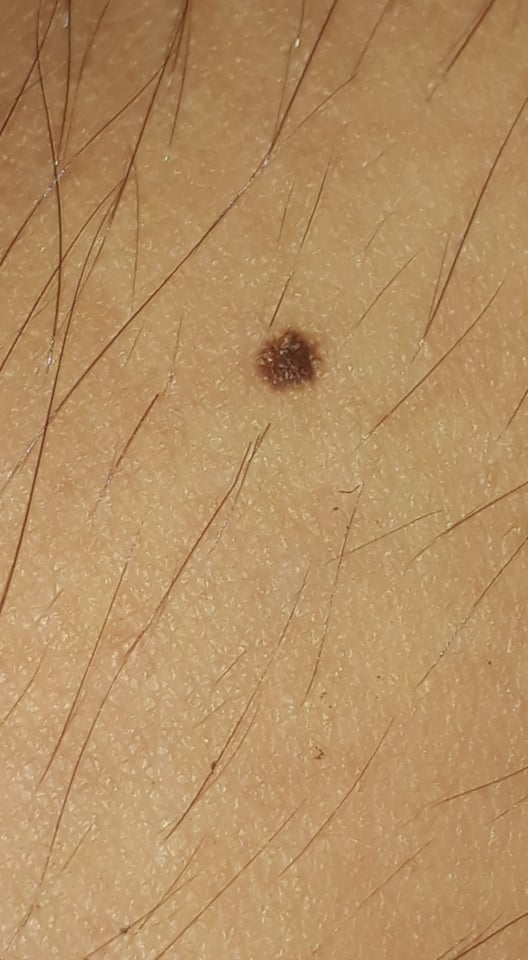Normal: (255, 328, 324, 394)
